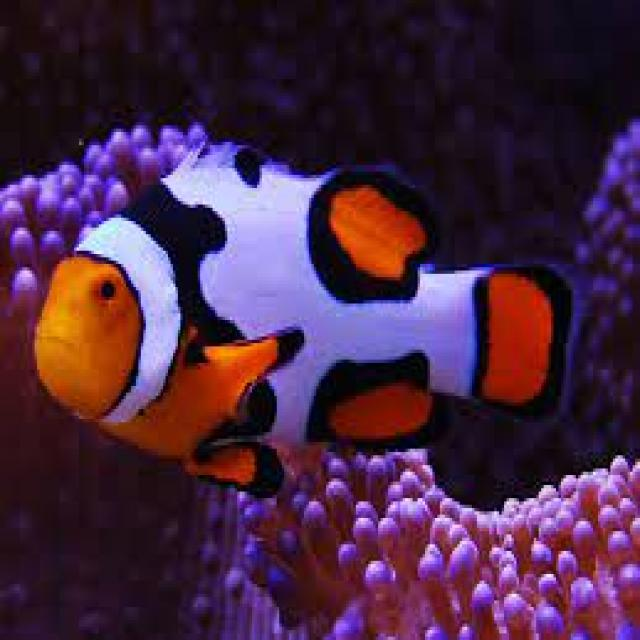Amphiprion-percula: (25, 127, 588, 510)
